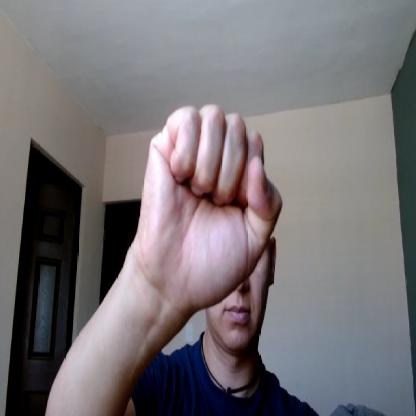S: (137, 104, 283, 308)
